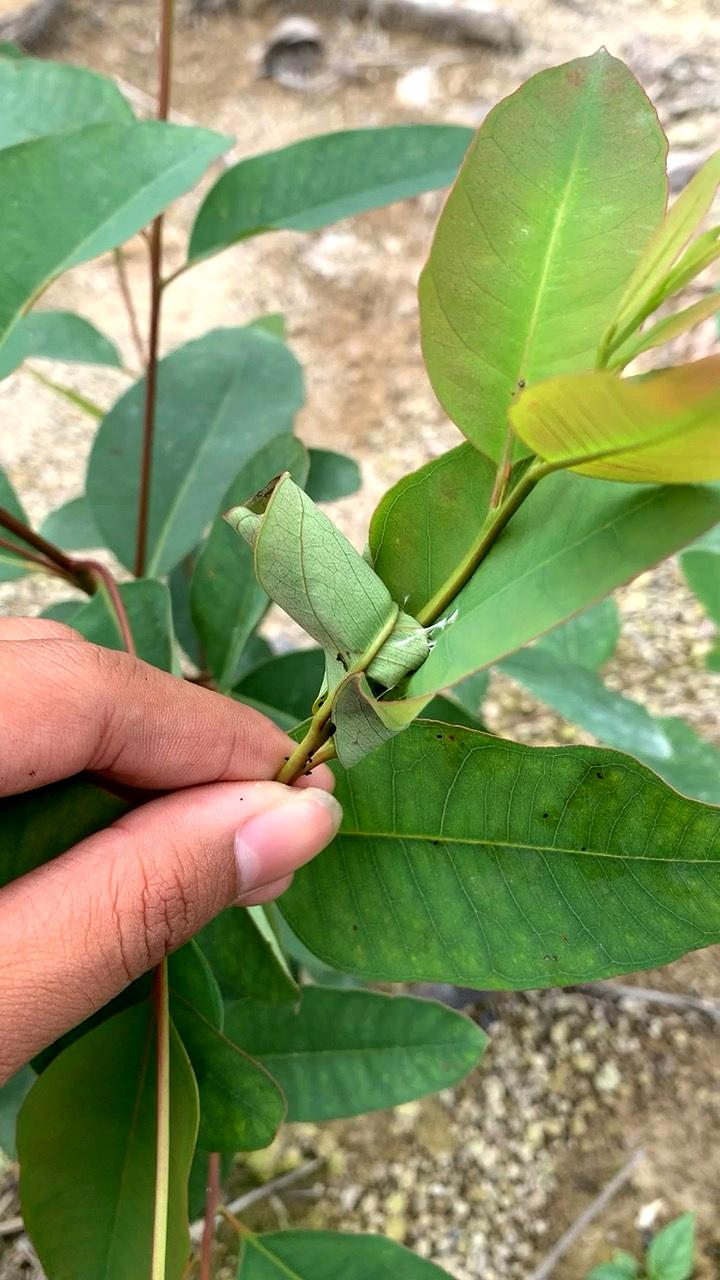Leaf Roller - Leaf: (206, 453, 457, 724)
